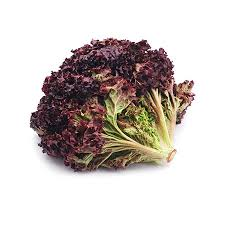Lettuce: (22, 32, 185, 180)
